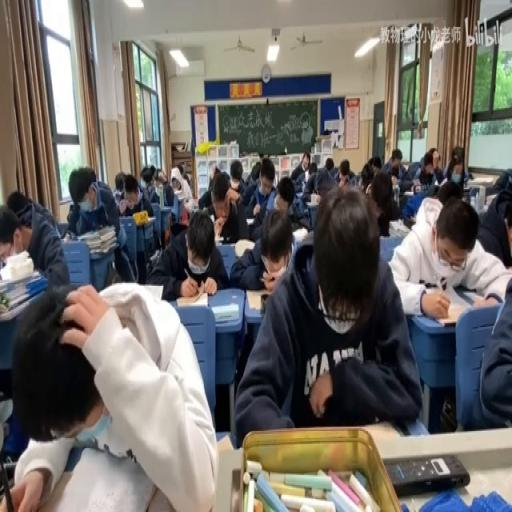calculator: (77, 224, 116, 254), (174, 287, 209, 306), (378, 234, 401, 260), (212, 302, 238, 322), (136, 282, 164, 300), (233, 236, 254, 256), (389, 218, 411, 236), (435, 312, 461, 327), (291, 224, 309, 242), (467, 174, 494, 184), (467, 185, 479, 206), (484, 192, 499, 206), (392, 182, 399, 205), (149, 248, 159, 264), (186, 199, 198, 212), (304, 196, 320, 205), (170, 188, 182, 199), (60, 232, 74, 240), (213, 233, 222, 245), (403, 189, 414, 196), (208, 213, 214, 225), (245, 216, 254, 223)
paper: (5, 274, 216, 510), (235, 186, 419, 442), (387, 192, 509, 314), (149, 206, 226, 299), (0, 189, 70, 290), (469, 277, 511, 431), (200, 164, 252, 243), (244, 163, 282, 239), (366, 166, 402, 236), (118, 171, 155, 239), (276, 172, 311, 230), (403, 146, 441, 194), (150, 168, 176, 209), (441, 145, 466, 184), (487, 168, 512, 199), (315, 166, 337, 198), (436, 179, 463, 205), (382, 148, 404, 178), (290, 152, 310, 185), (335, 156, 355, 186), (358, 161, 376, 193), (206, 161, 222, 189), (501, 209, 510, 256), (229, 160, 243, 188), (140, 165, 154, 188), (370, 155, 382, 176), (114, 172, 126, 192), (250, 161, 260, 182), (411, 176, 421, 194), (181, 171, 190, 189), (324, 156, 334, 170), (308, 162, 317, 175), (177, 162, 185, 176)
person: (383, 452, 469, 494), (260, 293, 269, 313)
